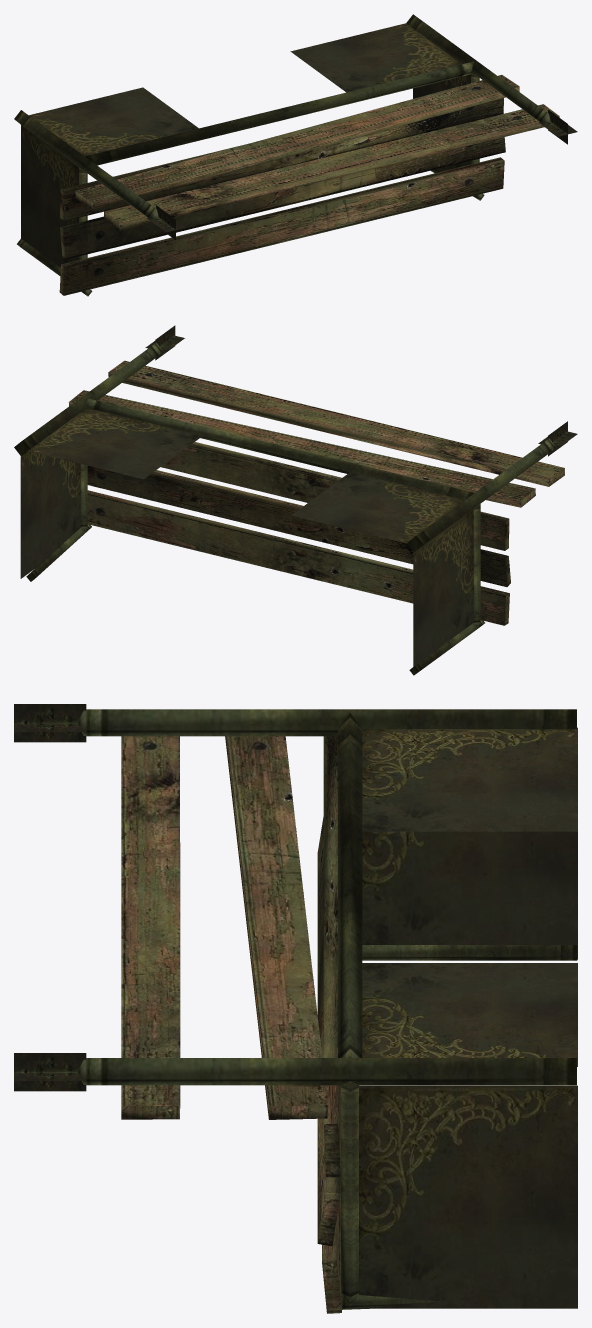
The model's file is prop_bench_d.glb.
The picture shows the model from 3 angles, top to bottom: view 1: azimuth 30°, elevation 25°; view 2: azimuth 150°, elevation 25°; view 3: azimuth 270°, elevation 25°; orthographic projection. The views are drawn at different scales.
Size of the model in its own units: 89.73 by 27.45 by 54.56.
1 material, 1 textured.
